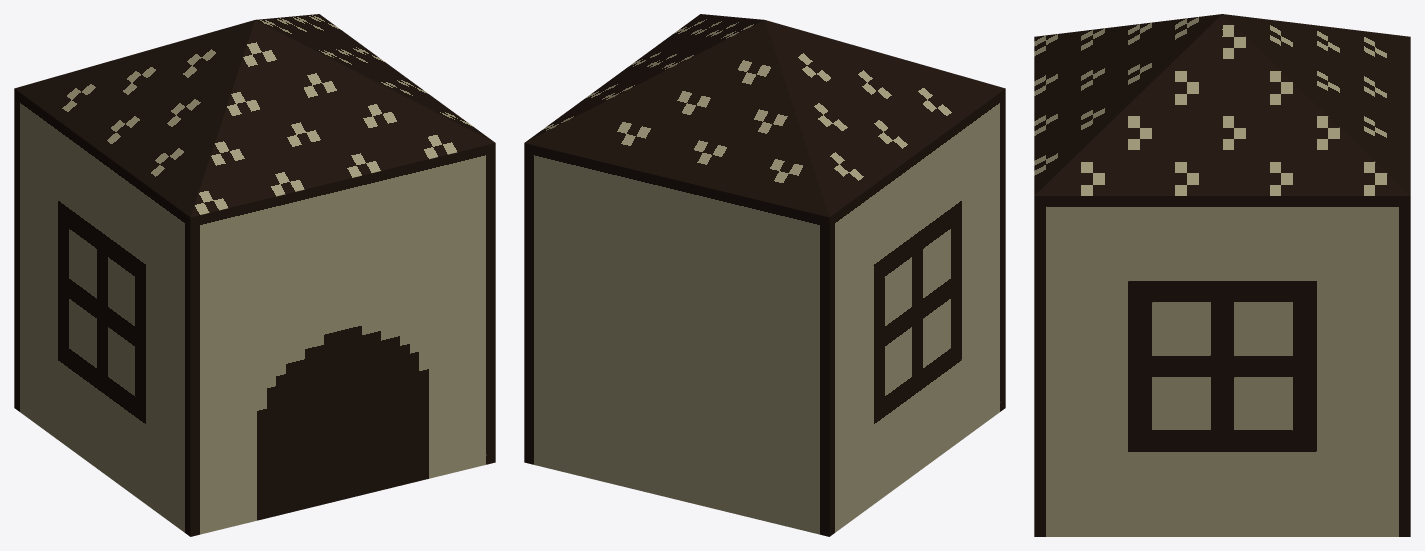
The model's file is house.glb.
3 views of the same model, side by side, from view 1: azimuth 30°, elevation 25°; view 2: azimuth 150°, elevation 25°; view 3: azimuth 270°, elevation 25° (orthographic). The views are drawn at different scales.
Visible parts, largest first — view 1: Hause; view 2: Hause; view 3: Hause.
Part boxes in pixels (x1,y1,x2,y2): Hause: [14, 14, 495, 536]; Hause: [524, 14, 1005, 536]; Hause: [1034, 14, 1410, 536].
Size of the model in its own units: 10 by 13 by 10.
Materials: 1 (1 with a texture image).
